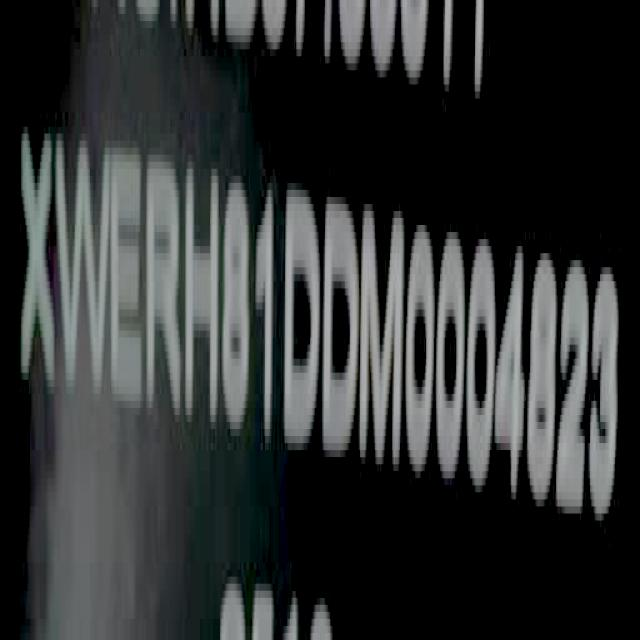0: (466, 229, 498, 499), (436, 220, 467, 490), (406, 210, 436, 482)
1: (256, 170, 279, 452)
2: (556, 255, 589, 524)
3: (590, 263, 622, 537)
4: (496, 229, 526, 508)
8: (527, 234, 558, 516), (220, 182, 252, 443)
D: (282, 174, 322, 450), (320, 193, 361, 461)
E: (112, 143, 146, 423)
H: (183, 154, 221, 432)
M: (362, 196, 408, 479)
R: (145, 130, 185, 427)
W: (55, 123, 115, 417)
X: (16, 119, 57, 404)
